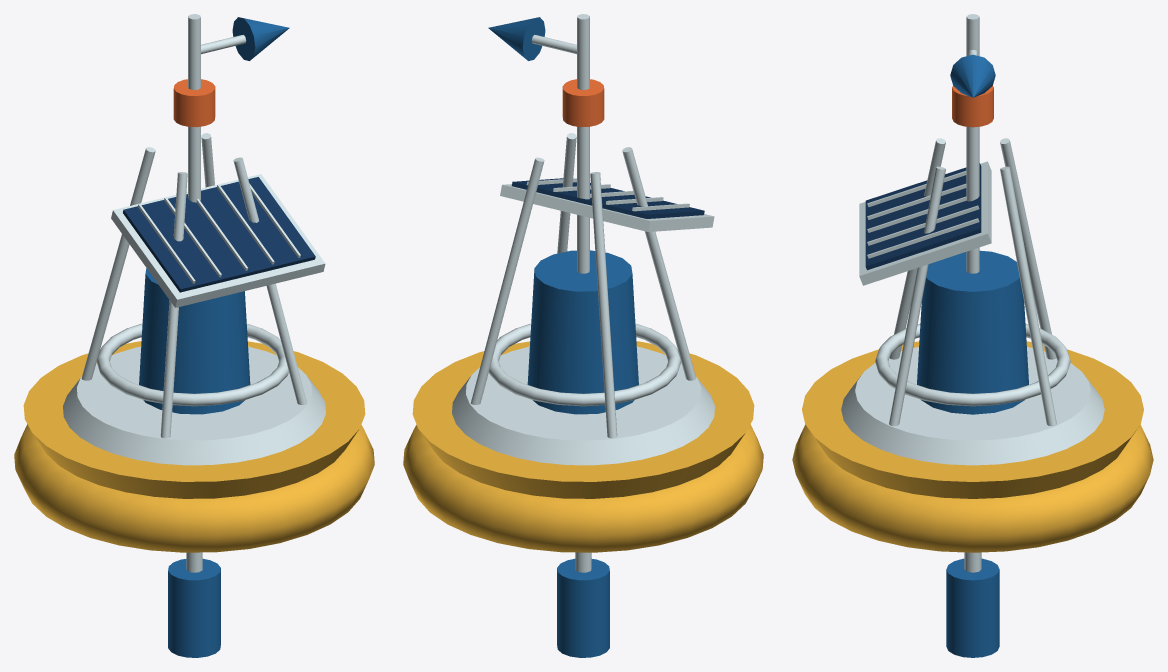
File: boya-oceanografica.glb
The picture shows the model from 3 angles, left to right: view 1: azimuth 30°, elevation 25°; view 2: azimuth 150°, elevation 25°; view 3: azimuth 270°, elevation 25°; orthographic projection.
Parts seen in each view (by area): view 1: Flotador_amarillo, Estructura_marina, Instrumentos_azules, Panel_solar, Baliza; view 2: Flotador_amarillo, Estructura_marina, Instrumentos_azules, Panel_solar, Baliza; view 3: Flotador_amarillo, Estructura_marina, Instrumentos_azules, Panel_solar, Baliza.
Boxes of the visible parts, bbox=[...] form: Flotador_amarillo: bbox=[14, 341, 374, 552]; Estructura_marina: bbox=[63, 14, 325, 572]; Instrumentos_azules: bbox=[139, 17, 289, 657]; Panel_solar: bbox=[123, 177, 315, 292]; Baliza: bbox=[173, 79, 215, 127]; Flotador_amarillo: bbox=[403, 341, 763, 552]; Estructura_marina: bbox=[452, 14, 714, 572]; Instrumentos_azules: bbox=[488, 17, 638, 657]; Panel_solar: bbox=[512, 178, 704, 218]; Baliza: bbox=[562, 79, 604, 127]; Flotador_amarillo: bbox=[792, 341, 1153, 552]; Estructura_marina: bbox=[841, 14, 1104, 572]; Instrumentos_azules: bbox=[917, 54, 1028, 657]; Panel_solar: bbox=[865, 163, 981, 270]; Baliza: bbox=[952, 85, 993, 127].
Bounding box in the file's own units: 1.9 × 3.65 × 1.9.
